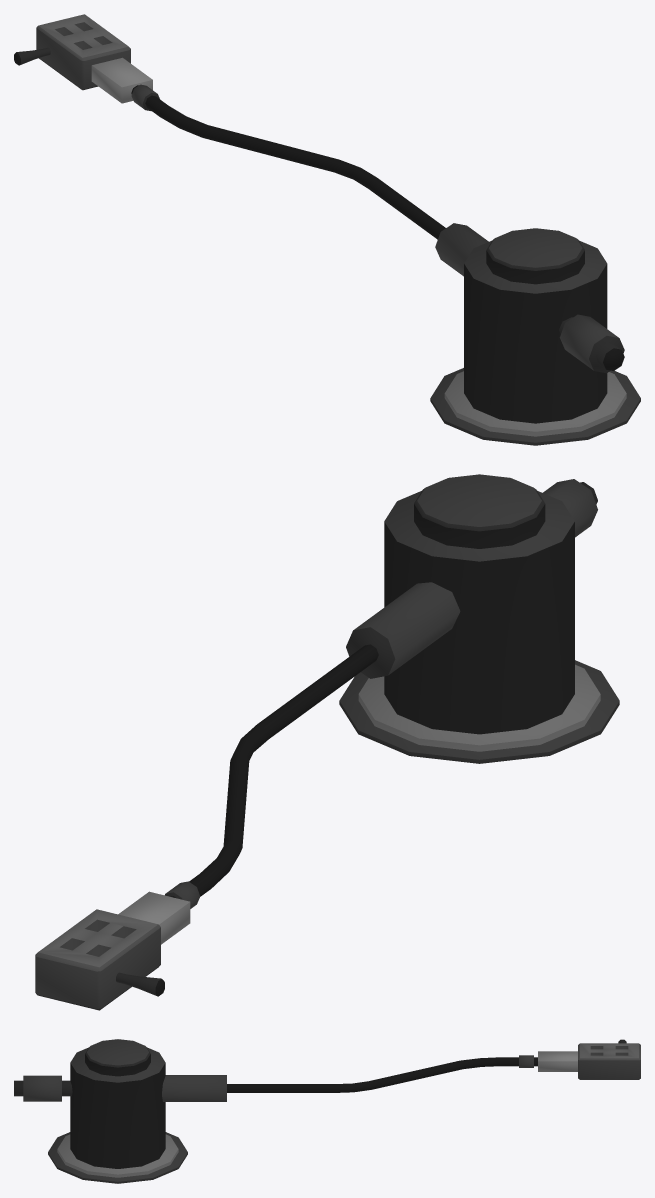
The model's file is vinyl_record_player.glb.
3 views of the same model, one above another, from view 1: azimuth 30°, elevation 25°; view 2: azimuth 150°, elevation 25°; view 3: azimuth 270°, elevation 25° (orthographic). The views are drawn at different scales.
Parts seen in each view (by area): view 1: vinyl_record_player; view 2: vinyl_record_player; view 3: vinyl_record_player.
Part boxes in pixels (bbox=[...]): vinyl_record_player: bbox=[14, 14, 640, 445]; vinyl_record_player: bbox=[35, 474, 619, 1010]; vinyl_record_player: bbox=[14, 1039, 640, 1183].
Bounding box in the file's own units: 11.19 × 7.08 × 39.46.
1 material, 1 textured.
